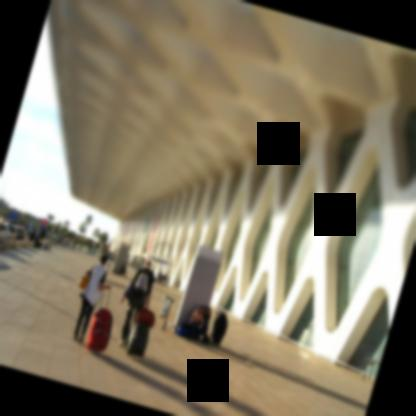backpack: (133, 272, 149, 297)
handbag: (78, 265, 96, 288), (124, 280, 137, 298), (202, 335, 210, 345)
suitcase: (87, 287, 113, 354), (126, 321, 151, 357), (211, 312, 228, 346), (135, 307, 156, 327)
